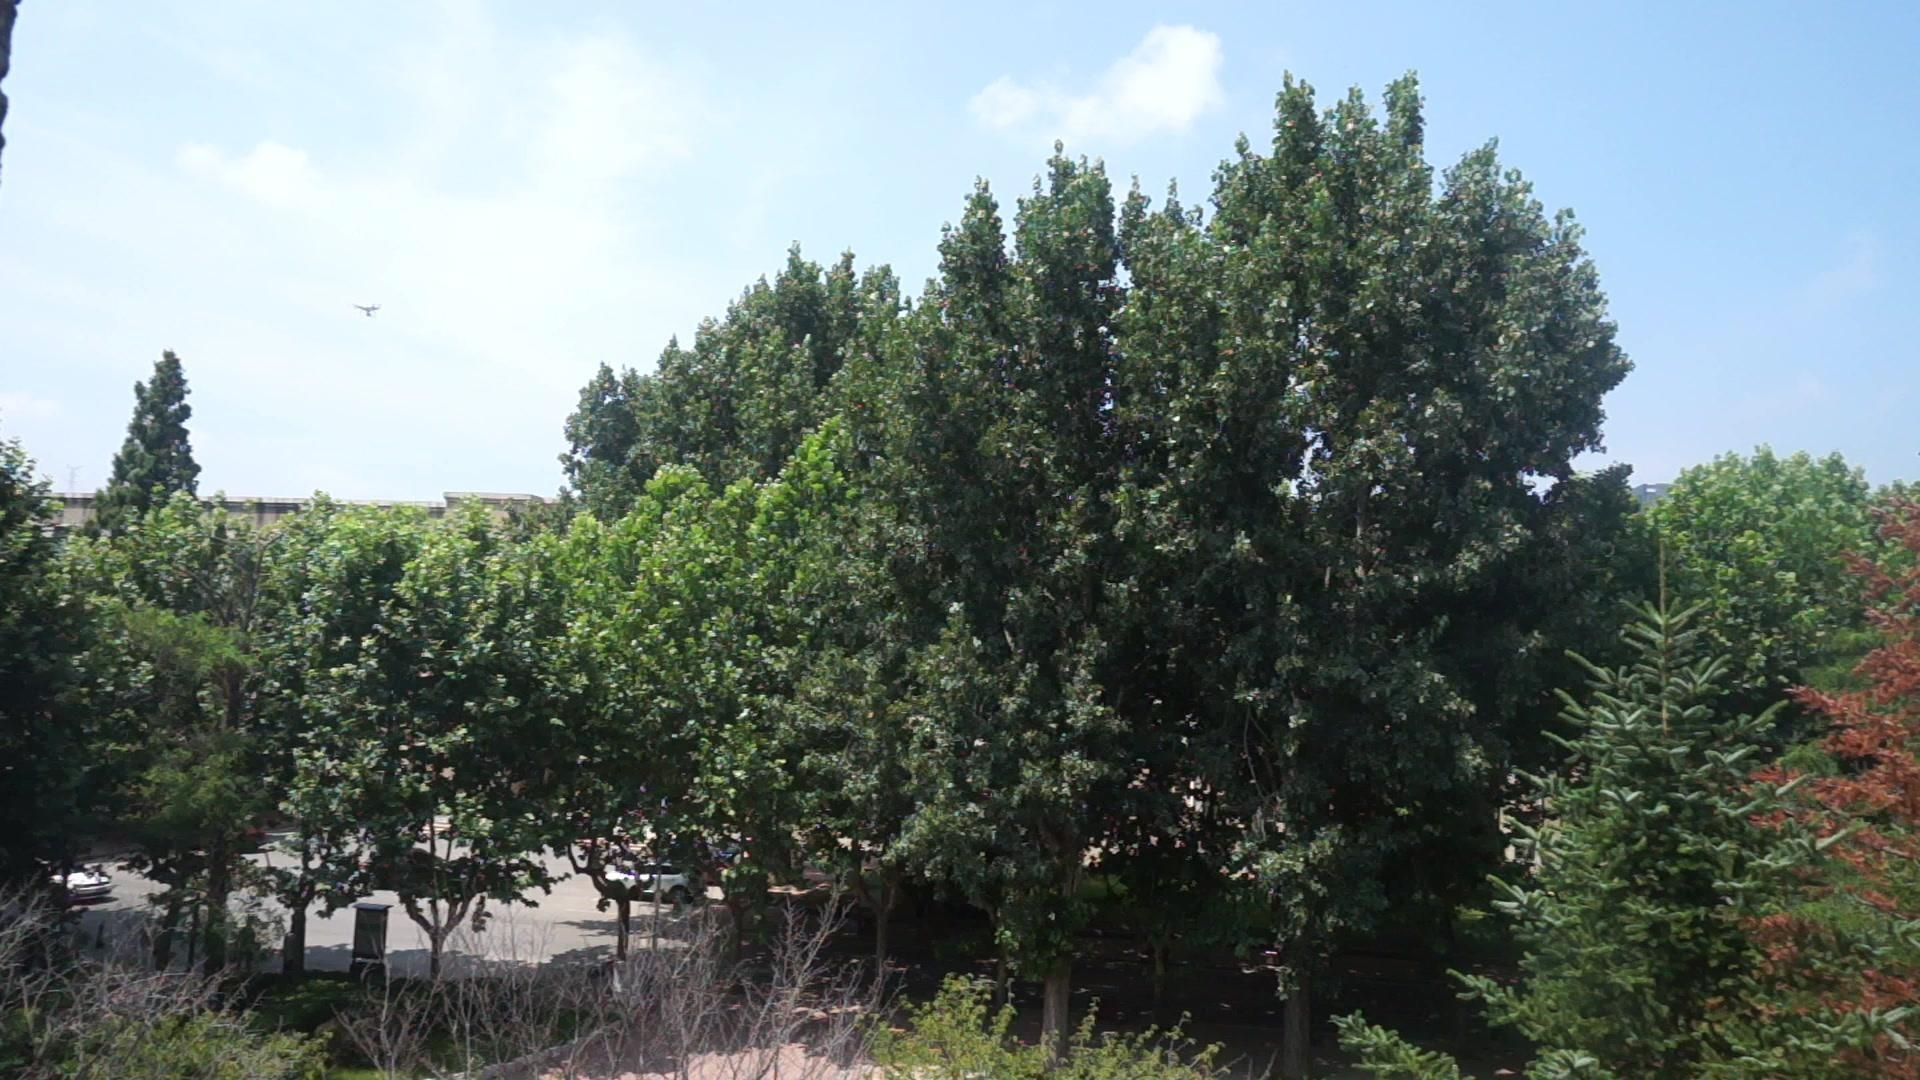UAV: (353, 305, 382, 318)
